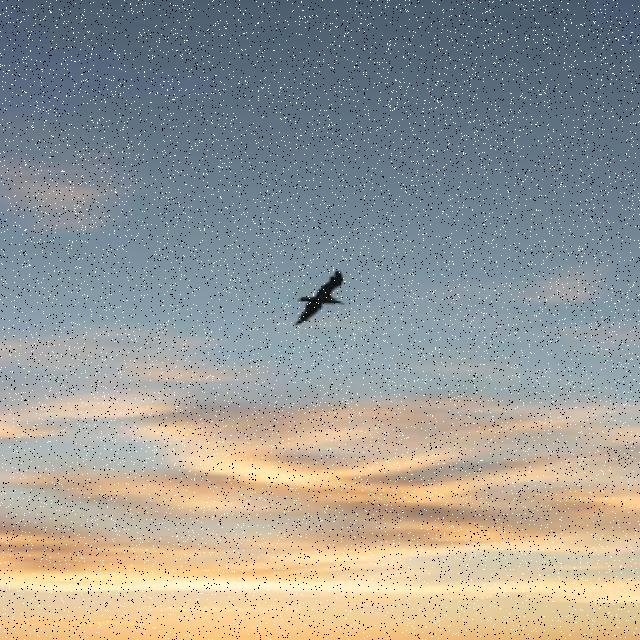bird: (296, 270, 344, 326)
